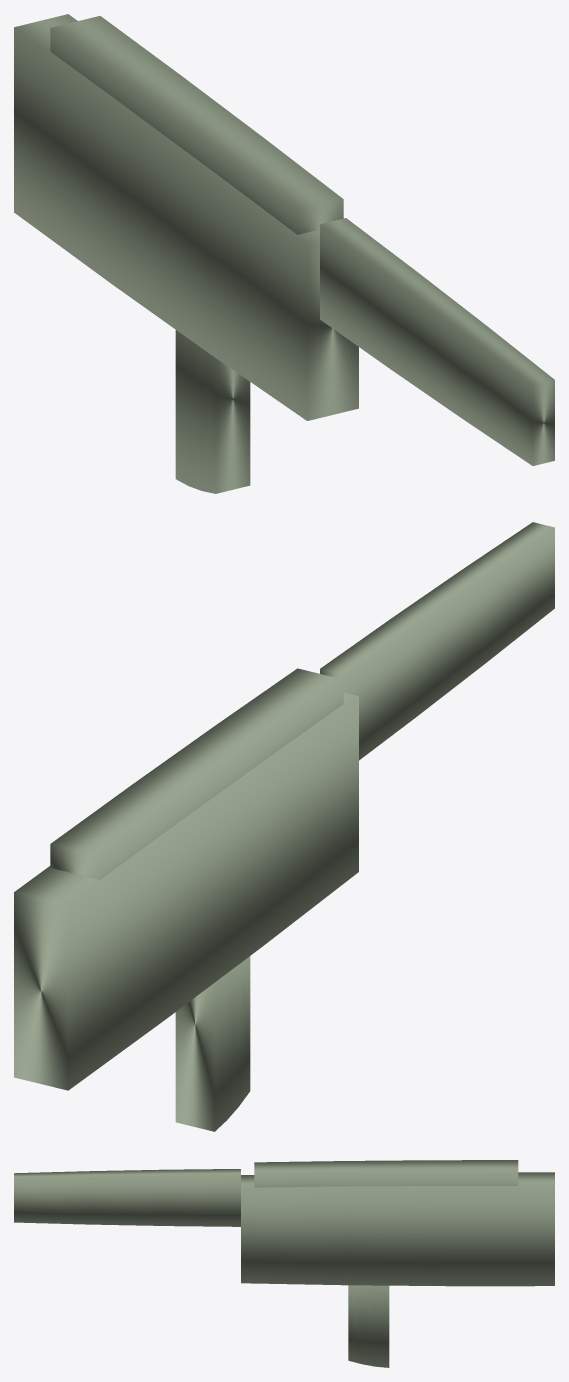
The model's file is wpn_aug_a2.glb.
3 renders of one model, top to bottom at view 1: azimuth 30°, elevation 25°; view 2: azimuth 150°, elevation 25°; view 3: azimuth 270°, elevation 25°, orthographic. The views are drawn at different scales.
Visible parts, largest first — view 1: SubMesh_0_Receiver, SubMesh_3_BarrelSight, SubMesh_1_Action, SubMesh_2_Magazine; view 2: SubMesh_0_Receiver, SubMesh_3_BarrelSight, SubMesh_1_Action, SubMesh_2_Magazine; view 3: SubMesh_0_Receiver, SubMesh_3_BarrelSight, SubMesh_1_Action, SubMesh_2_Magazine.
Part boxes in pixels (x1,y1,x2,y2): SubMesh_0_Receiver: (14, 14, 358, 420); SubMesh_3_BarrelSight: (320, 218, 554, 465); SubMesh_1_Action: (50, 16, 343, 234); SubMesh_2_Magazine: (175, 330, 250, 493); SubMesh_0_Receiver: (14, 692, 358, 1090); SubMesh_3_BarrelSight: (320, 522, 554, 760); SubMesh_1_Action: (50, 668, 343, 879); SubMesh_2_Magazine: (175, 956, 250, 1131); SubMesh_0_Receiver: (241, 1172, 554, 1286); SubMesh_3_BarrelSight: (14, 1169, 240, 1226); SubMesh_1_Action: (254, 1160, 518, 1187); SubMesh_2_Magazine: (348, 1285, 389, 1367).
Bounding box in the file's own units: 0.0581 × 0.3723 × 0.93.
